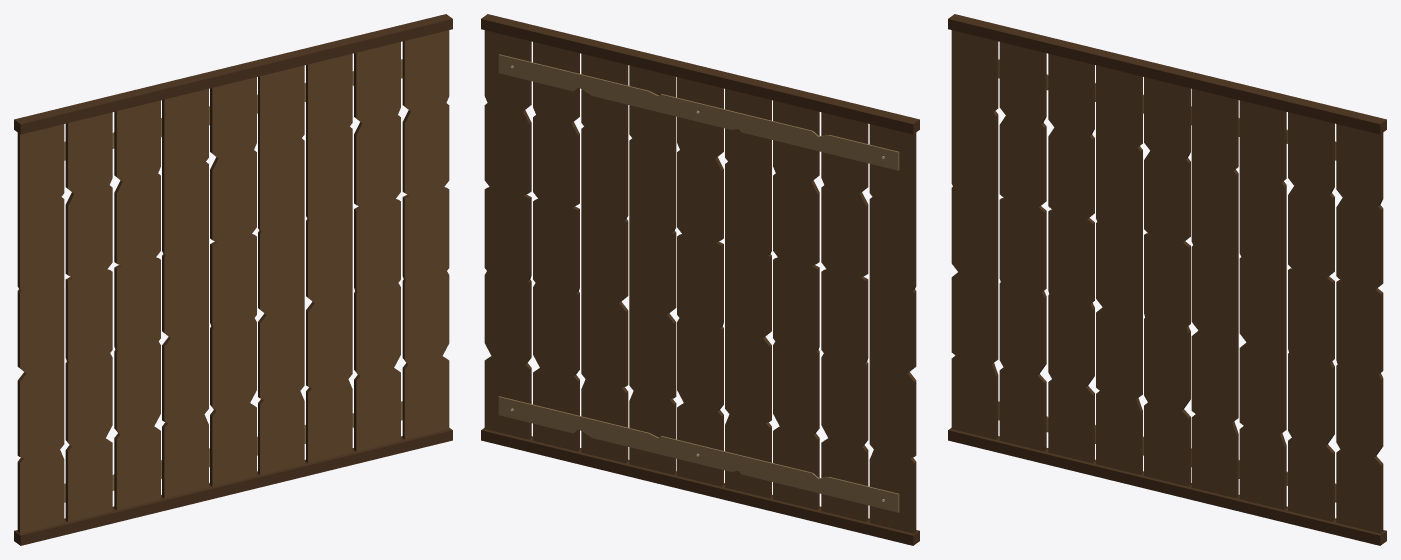
The model's file is wall_for_survival_videogame.glb.
3 views of the same model, side by side, from view 1: azimuth 30°, elevation 25°; view 2: azimuth 150°, elevation 25°; view 3: azimuth 330°, elevation 25° (orthographic).
Parts seen in each view (by area): view 1: Cube; view 2: Cube; view 3: Cube.
Part boxes in pixels (x1,y1,x2,y2): Cube: (14, 14, 452, 545); Cube: (481, 14, 919, 545); Cube: (948, 14, 1386, 545).
Bounding box in the file's own units: 2.69 × 2.51 × 0.0718.
Materials: 1 (1 with a texture image).
